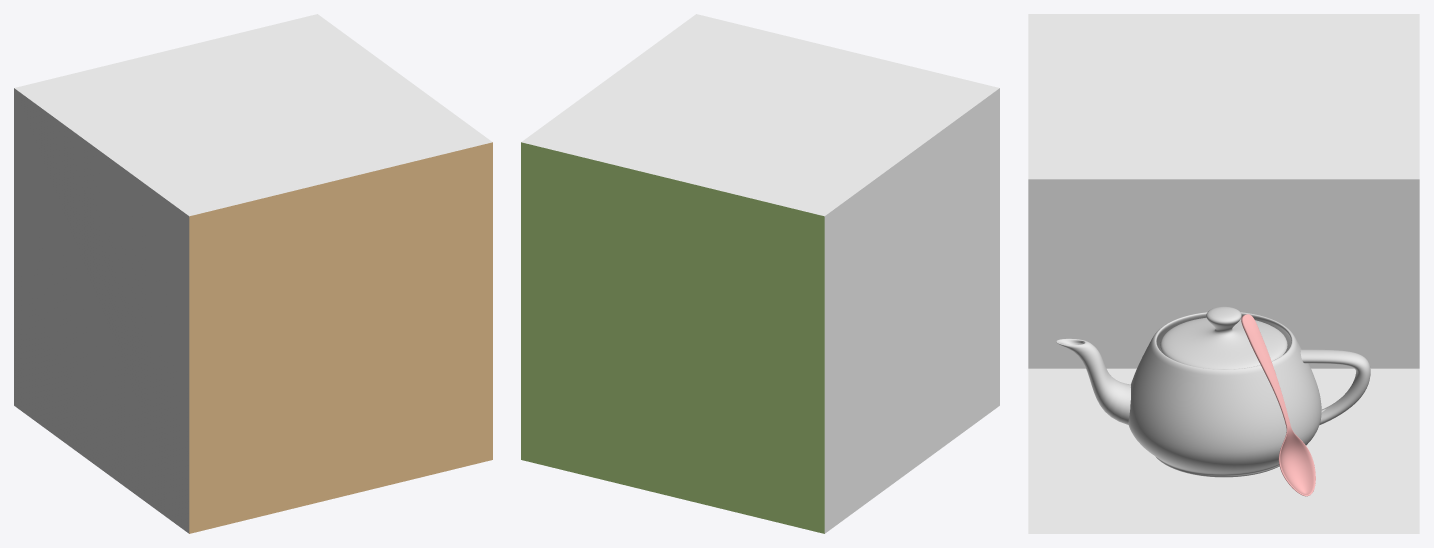
The model's file is 07-scene-medium-2.gltf.
3 views of the same model, side by side, from view 1: azimuth 30°, elevation 25°; view 2: azimuth 150°, elevation 25°; view 3: azimuth 270°, elevation 25° (orthographic). The views are drawn at different scales.
Visible parts, largest first — view 1: Plane.003, Plane.004, Plane.002; view 2: Plane.001, Plane.004, Plane.002; view 3: Plane.002, Plane.004, Plane, Teapot, Teapot.001.
Part boxes in pixels (x1,y1,x2,y2): Plane.003: [189, 142, 492, 533]; Plane.004: [14, 88, 189, 533]; Plane.002: [14, 14, 492, 216]; Plane.001: [521, 142, 824, 533]; Plane.004: [824, 88, 999, 533]; Plane.002: [521, 14, 999, 216]; Plane.002: [1028, 14, 1419, 179]; Plane.004: [1028, 179, 1419, 368]; Plane: [1028, 368, 1419, 533]; Teapot: [1056, 306, 1370, 477]; Teapot.001: [1241, 314, 1315, 496].
Size of the model in its own units: 2 by 2 by 2.
